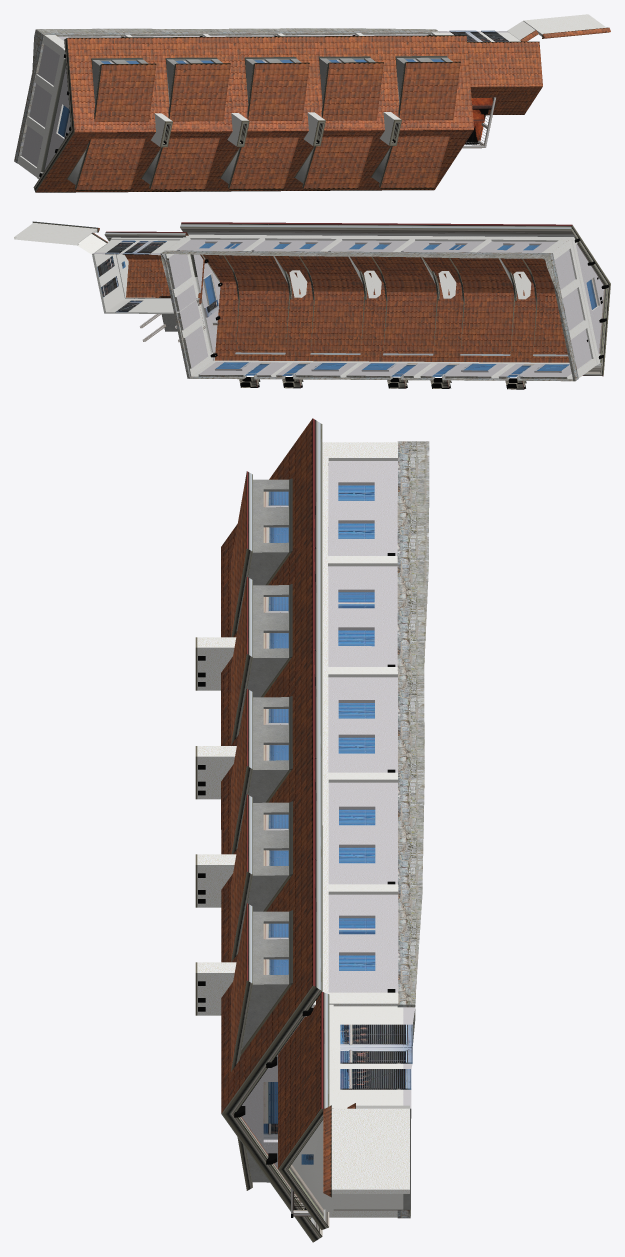
Rendered from Suurtyki_4a_2.obj.
The picture shows the model from 3 angles, top to bottom: view 1: azimuth 30°, elevation 25°; view 2: azimuth 150°, elevation 25°; view 3: azimuth 270°, elevation 25°; orthographic projection. The views are drawn at different scales.
Visible parts, largest first — view 1: Suurtyki_4a_2; view 2: Suurtyki_4a_2; view 3: Suurtyki_4a_2.
Part boxes in pixels (x1=…): Suurtyki_4a_2: x1=14, y1=14, x2=610, y2=192; Suurtyki_4a_2: x1=14, y1=221, x2=610, y2=389; Suurtyki_4a_2: x1=195, y1=418, x2=429, y2=1242.
Size of the model in its own units: 51.86 by 20.72 by 9.27.
